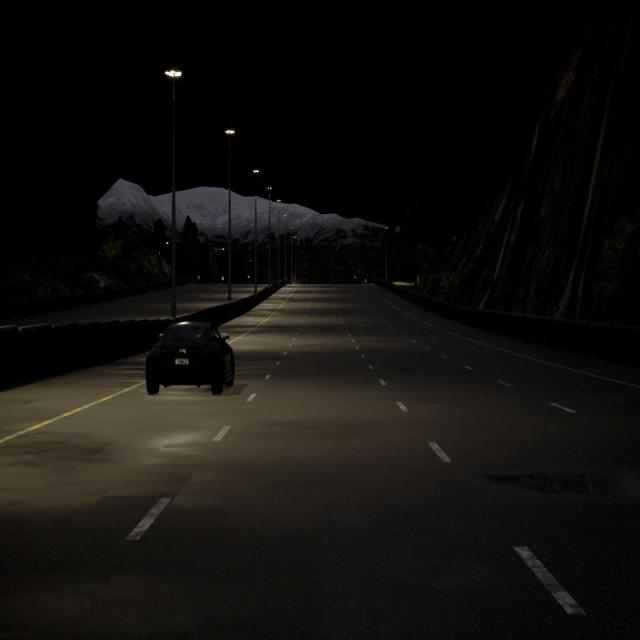Traffic_Signs: (100, 280, 104, 287)
Vehicle: (144, 318, 236, 394)
